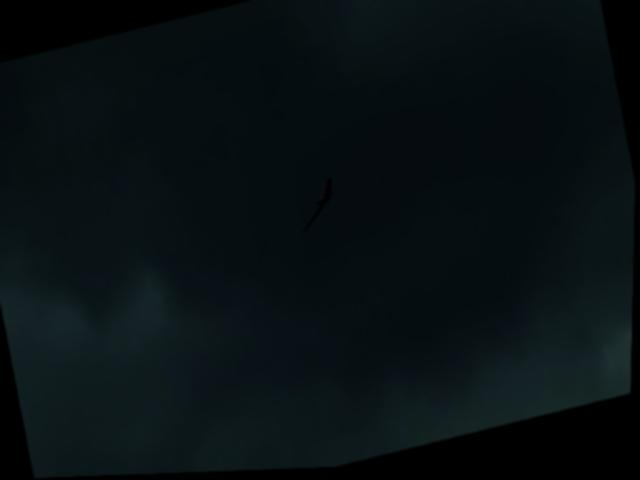flying wing: (292, 176, 347, 239)
